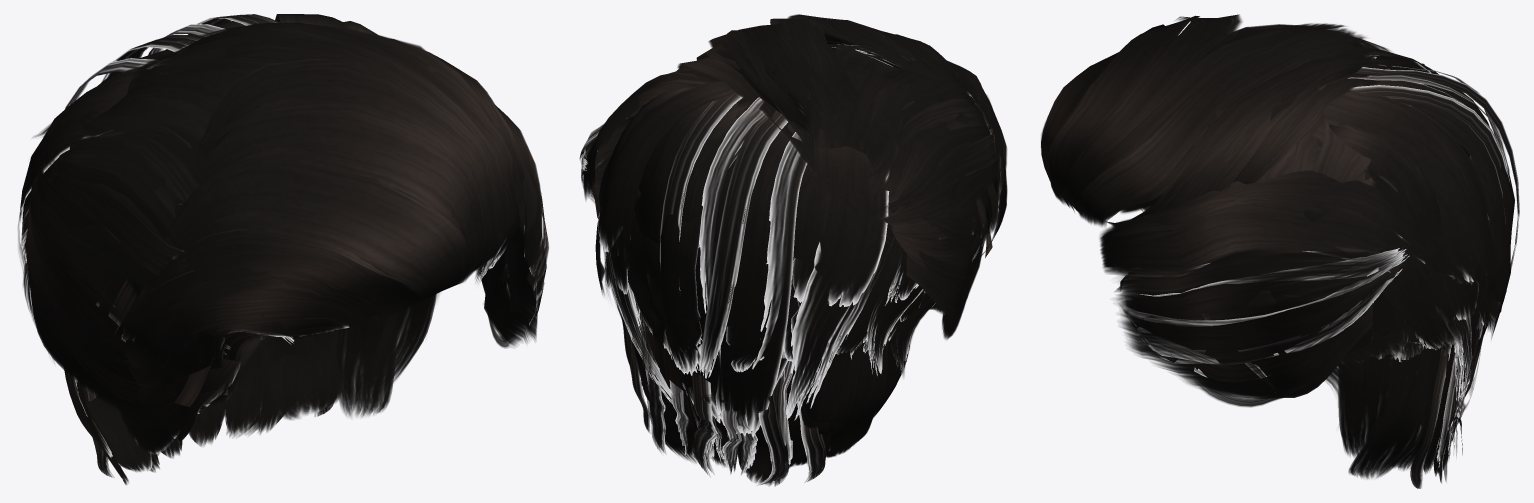
The model's file is diamond_wavy_01 FrenchCrop4.glb.
The picture shows the model from 3 angles, left to right: view 1: azimuth 30°, elevation 25°; view 2: azimuth 150°, elevation 25°; view 3: azimuth 270°, elevation 25°; orthographic projection. The views are drawn at different scales.
Visible parts, largest first — view 1: SIDE PART; view 2: SIDE PART; view 3: SIDE PART.
Part boxes in pixels (x1,y1,x2,y2): SIDE PART: (18,14,548,484); SIDE PART: (579,14,1007,486); SIDE PART: (1041,14,1519,488).
Size of the model in its own units: 0.2171 by 0.2214 by 0.2252.
1 material, 1 textured.
